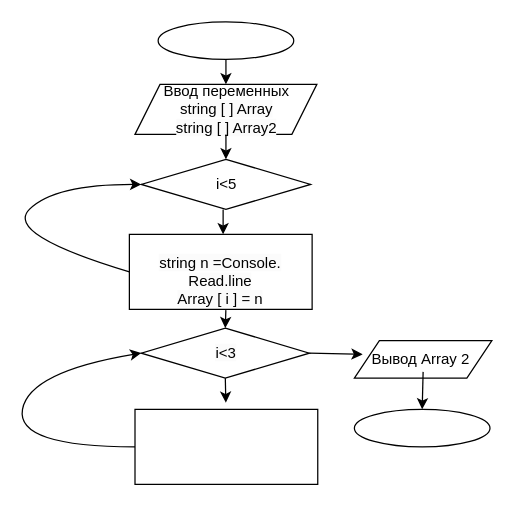
This 514x506 diagram has some shape labels left out. Each missing label, with the centre of its shape:
"Array2[ i ] = Array [ i ]" belongs at [226,446].
"Конец" belongs at [421,427].
"Начало" belongs at [225,40].
